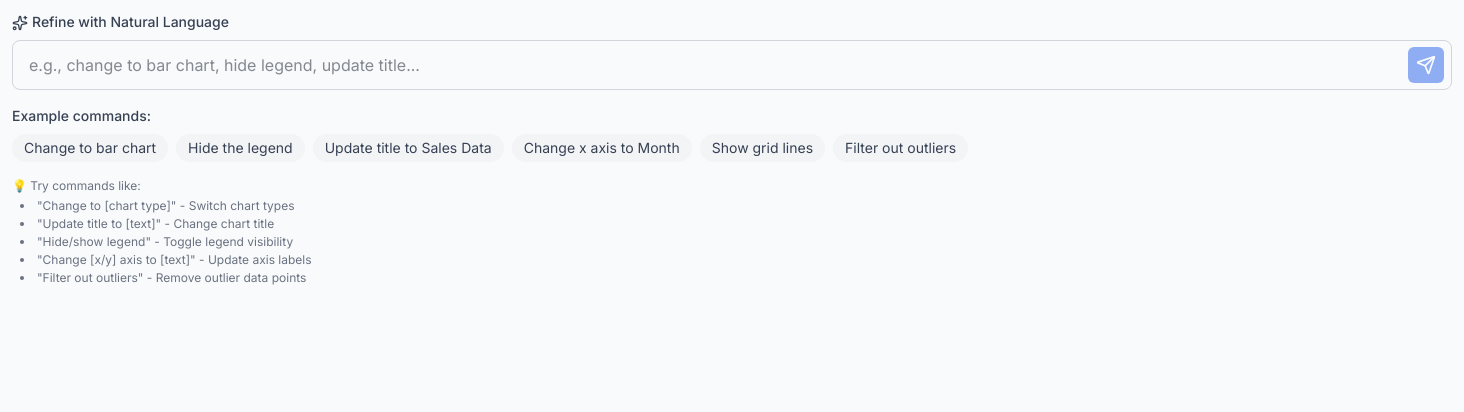
Test case: RefinementPanel › submits refinement command successfully
In the field with placeholder "e.g., change to bar chart, hide legend, update title...": (732, 65) [12,40,1452,90], type "update title"
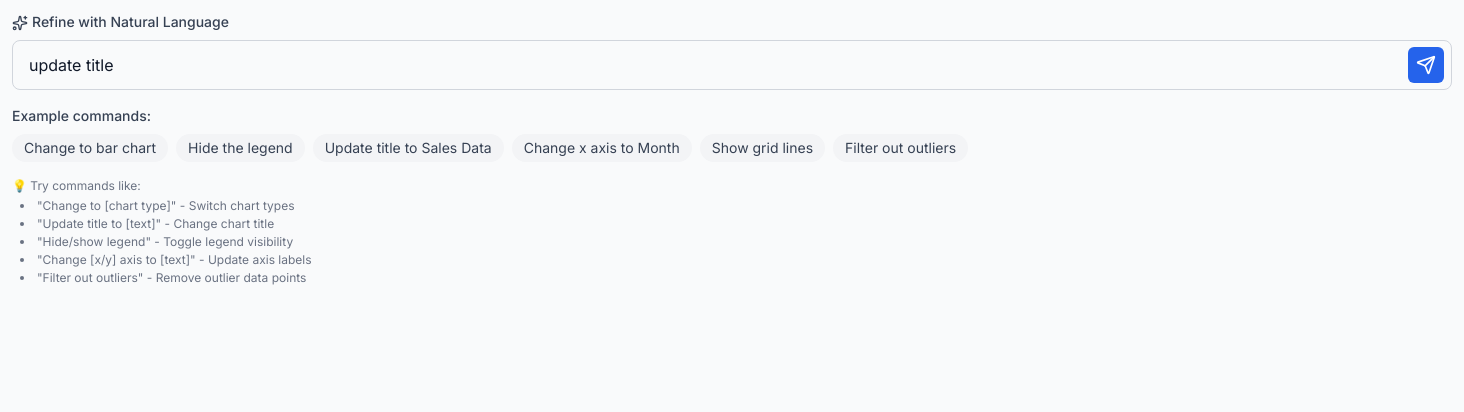
Click the button titled "Apply refinement": (1426, 65) [1408,47,1444,83]
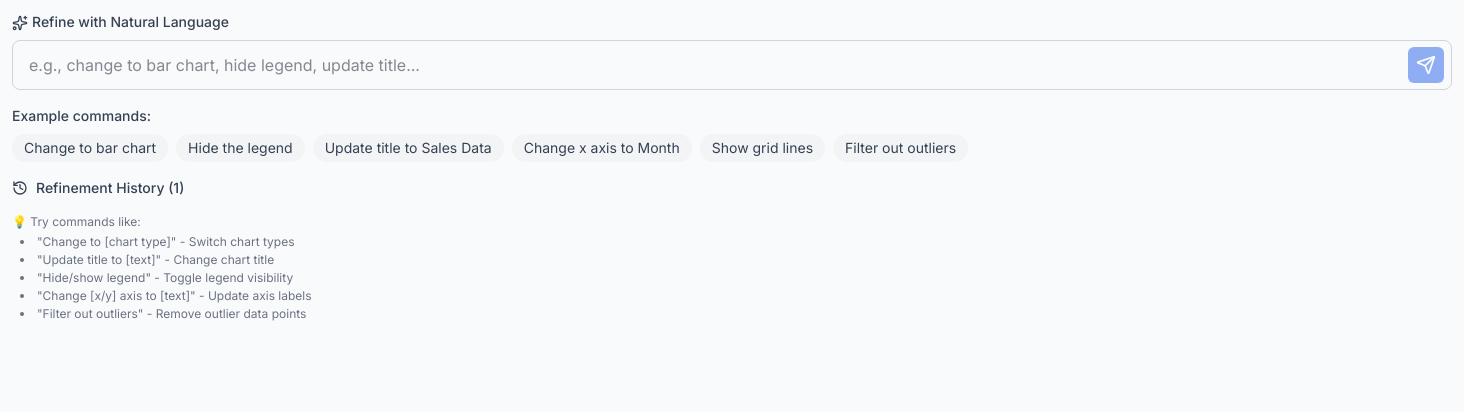
Check: the button titled "Apply refinement" is disabled, box [1408,47,1444,83]
Check: the button "Refinement History (1)" is shown
Click the button "Refinement History (1)": (98, 188) [12,178,184,198]
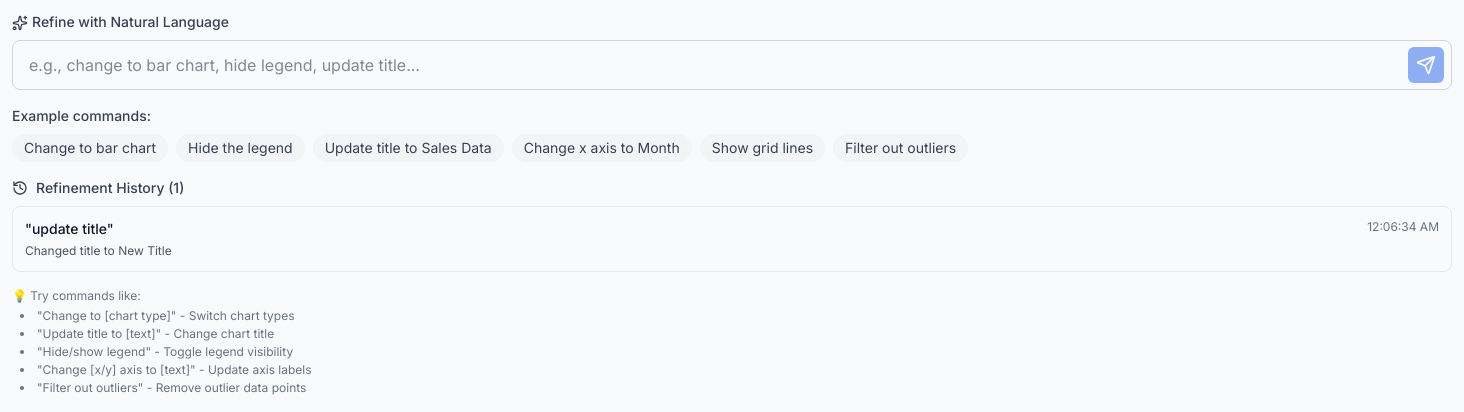
Check: the text "\"update title\"" is shown, box [25,220,114,237]
Check: the text "Changed title to New Title" is shown, box [25,243,172,258]
